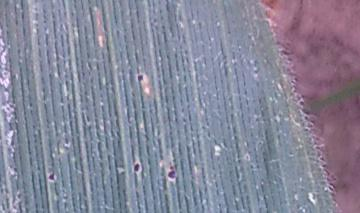tarspot: (163, 159, 180, 185), (130, 157, 144, 177), (43, 169, 58, 185), (133, 70, 146, 84)
